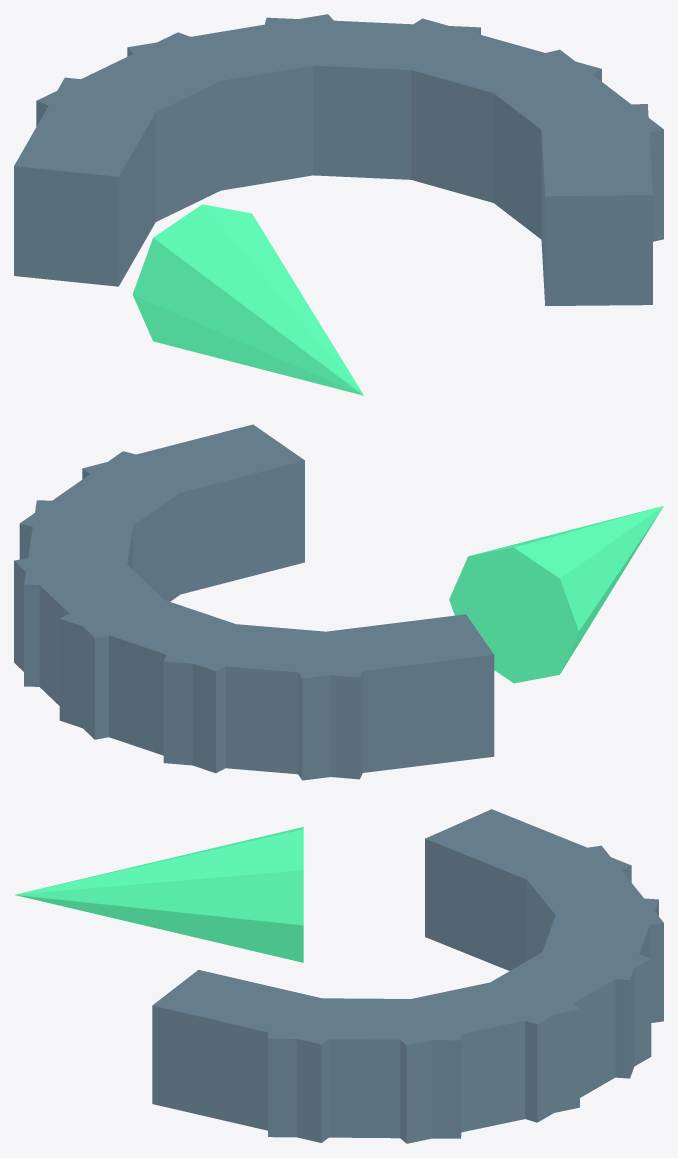
Rendered from hook.glb.
3 renders of one model, top to bottom at view 1: azimuth 30°, elevation 25°; view 2: azimuth 150°, elevation 25°; view 3: azimuth 270°, elevation 25°, orthographic. The views are drawn at different scales.
Parts seen in each view (by area): view 1: hook; view 2: hook; view 3: hook.
Boxes of the visible parts, x1,y1,x2,y2 form: hook: [14, 14, 663, 395]; hook: [14, 424, 663, 780]; hook: [14, 809, 663, 1143].
Bounding box in the file's own units: 0.9265 × 0.24 × 1.08.
